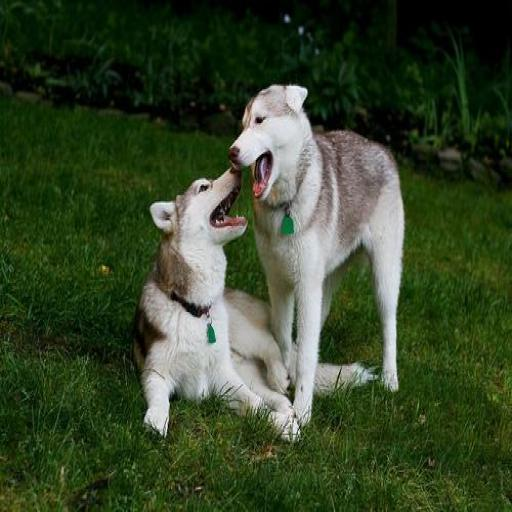dog_face: (240, 88, 309, 198), (156, 178, 250, 248)
